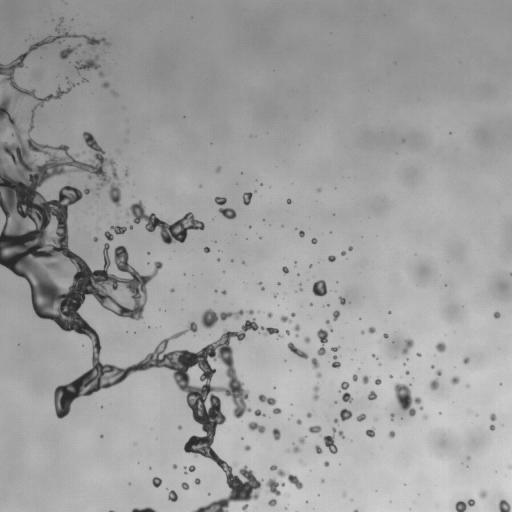droplet: (393, 383, 421, 416), (323, 428, 344, 453), (266, 478, 284, 495), (312, 280, 327, 296), (248, 422, 265, 433), (402, 339, 413, 354), (340, 408, 352, 421), (498, 499, 511, 511), (243, 192, 252, 205), (331, 355, 340, 368), (435, 342, 446, 352), (308, 425, 321, 433), (367, 390, 377, 400), (168, 490, 177, 501), (430, 378, 438, 390), (272, 428, 280, 440), (152, 477, 161, 487), (184, 465, 195, 473), (365, 428, 374, 437), (311, 358, 319, 368), (356, 413, 366, 421), (333, 310, 340, 321), (254, 409, 265, 416), (450, 376, 459, 384), (478, 490, 487, 498), (280, 316, 291, 322), (298, 436, 306, 444), (181, 482, 189, 490), (388, 430, 395, 438), (292, 444, 299, 452), (315, 445, 322, 453), (268, 499, 276, 506), (339, 296, 345, 305), (362, 375, 368, 384), (272, 408, 281, 414), (493, 311, 500, 318), (282, 266, 288, 274), (294, 324, 300, 332), (331, 346, 339, 352), (203, 246, 210, 252), (328, 255, 335, 261), (368, 327, 375, 333), (490, 413, 496, 420), (304, 337, 310, 343), (463, 357, 469, 363), (375, 378, 381, 384), (102, 82, 109, 87), (299, 230, 304, 237), (311, 238, 317, 243), (316, 372, 321, 378), (489, 425, 495, 430), (244, 445, 250, 450), (195, 478, 200, 484), (247, 310, 254, 314), (353, 374, 357, 381), (390, 413, 394, 420), (267, 312, 272, 317), (383, 333, 388, 338), (436, 370, 441, 375), (296, 419, 301, 424), (324, 461, 329, 466), (334, 418, 338, 424), (287, 198, 291, 203), (325, 320, 329, 325), (306, 413, 311, 417), (172, 464, 177, 468), (99, 72, 103, 76), (216, 167, 220, 171), (93, 237, 97, 241), (348, 246, 352, 250), (341, 251, 345, 255), (170, 288, 174, 292), (222, 290, 226, 294), (273, 293, 277, 297), (285, 330, 289, 334), (372, 354, 376, 358), (405, 370, 409, 374), (419, 406, 423, 410), (177, 425, 181, 429), (125, 171, 128, 176), (82, 78, 86, 81), (112, 91, 115, 95), (299, 287, 302, 291), (291, 313, 295, 316), (329, 327, 332, 331), (416, 353, 420, 356), (317, 188, 320, 191), (258, 282, 261, 285), (261, 287, 264, 290), (295, 334, 298, 337), (431, 365, 434, 368), (389, 375, 392, 378), (467, 456, 470, 459), (508, 465, 511, 468), (217, 258, 219, 261), (242, 261, 244, 264), (310, 303, 312, 306), (388, 311, 391, 313), (361, 331, 364, 333), (100, 435, 103, 437), (130, 226, 132, 228), (309, 265, 311, 267), (278, 282, 280, 284), (424, 416, 426, 418), (321, 479, 323, 481), (343, 493, 345, 495)
ligament: (0, 17, 281, 511), (126, 201, 204, 244), (201, 309, 244, 329), (270, 465, 302, 489), (214, 196, 236, 219), (287, 342, 308, 358), (76, 56, 99, 70), (59, 44, 80, 59), (317, 329, 328, 355), (341, 381, 353, 402), (455, 499, 475, 511), (258, 394, 276, 405), (312, 385, 319, 400), (131, 507, 156, 511), (353, 509, 358, 511), (109, 510, 114, 511), (510, 272, 511, 275)
